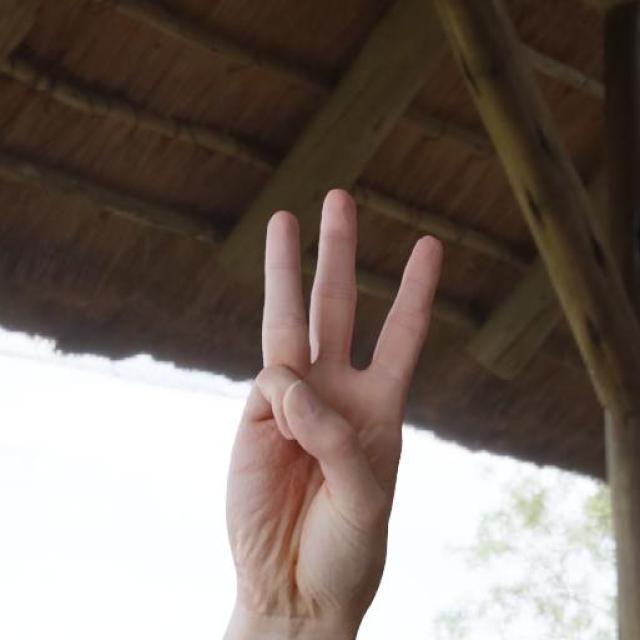W: (211, 183, 448, 637)
